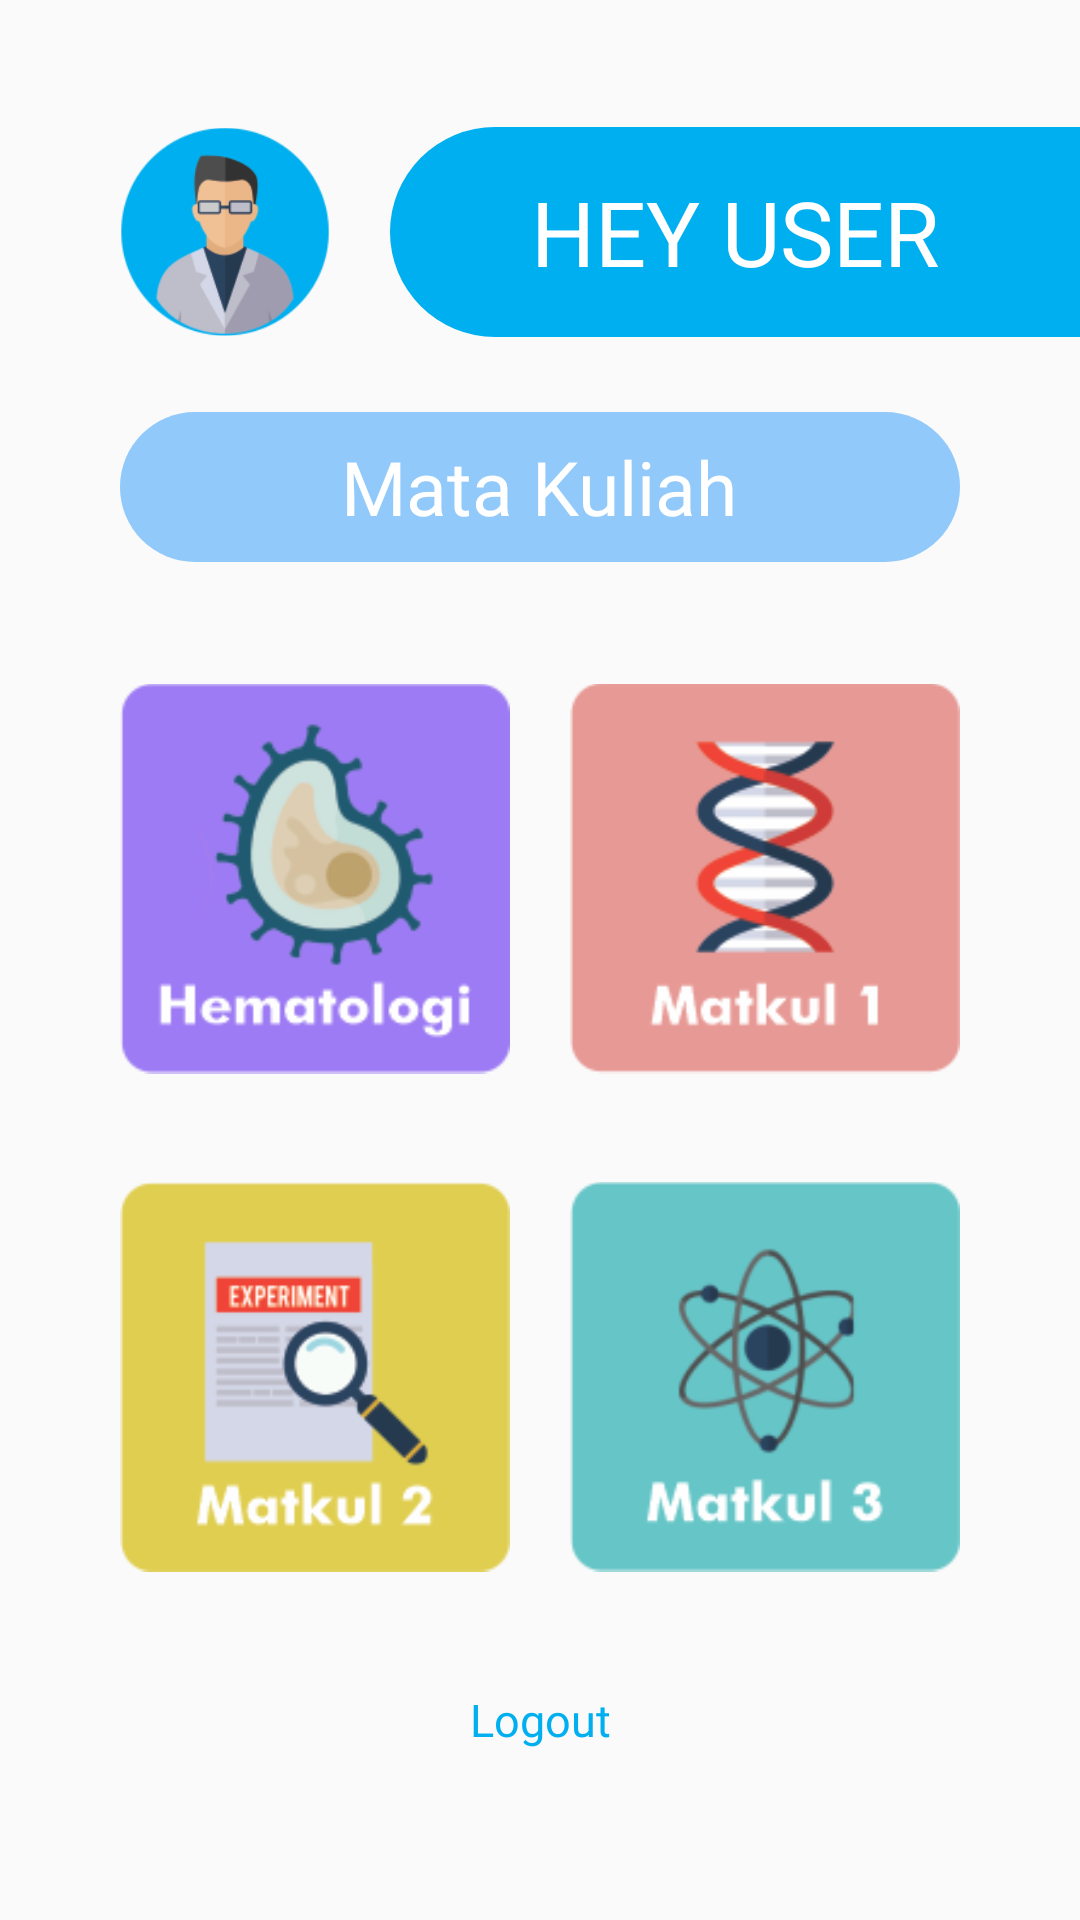

Locate icon controls on the screen. Image size 1080px×1920px, boxes as (left=x1, top=y1, right=x2, bottom=y2).
usericon: (left=121, top=128, right=329, bottom=336)
